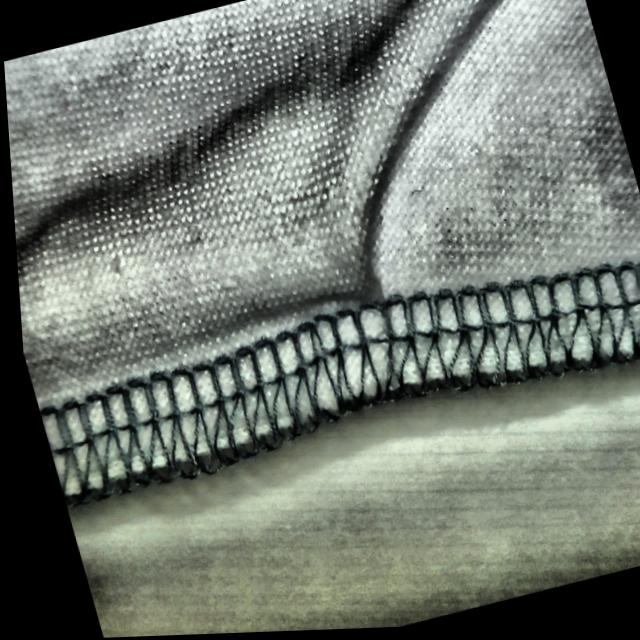seam: (215, 177, 454, 478)
